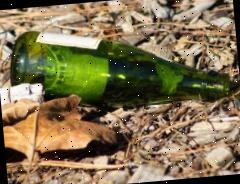glass: (9, 17, 232, 121)
